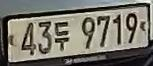1: (110, 11, 126, 46)
3: (38, 19, 53, 55)
4: (19, 21, 38, 58)
7: (95, 14, 112, 48)
9: (79, 16, 96, 51), (124, 11, 139, 43)
두: (53, 19, 71, 53)
